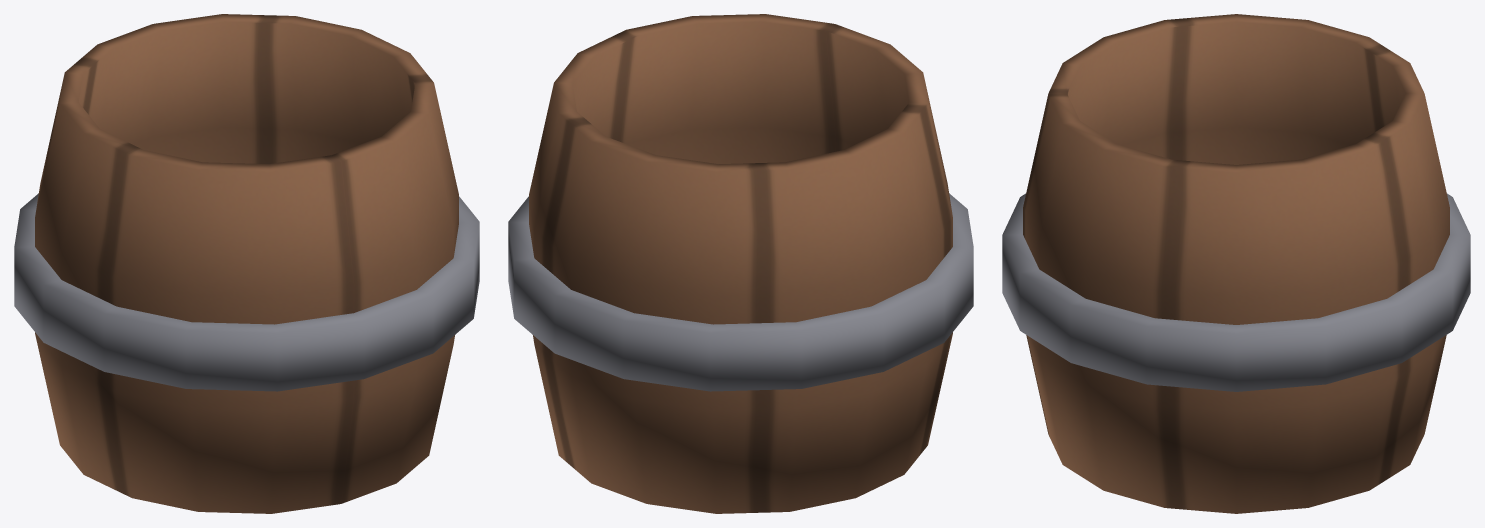
File: Barrel.fbx
3 views of the same model, side by side, from view 1: azimuth 30°, elevation 25°; view 2: azimuth 150°, elevation 25°; view 3: azimuth 270°, elevation 25° (orthographic).
Parts seen in each view (by area): view 1: Cube; view 2: Cube; view 3: Cube.
Boxes of the visible parts, x1=… form: Cube: x1=14, y1=14, x2=479, y2=513; Cube: x1=508, y1=14, x2=973, y2=513; Cube: x1=1002, y1=14, x2=1470, y2=513.
Size of the model in its own units: 249 by 200 by 249.
